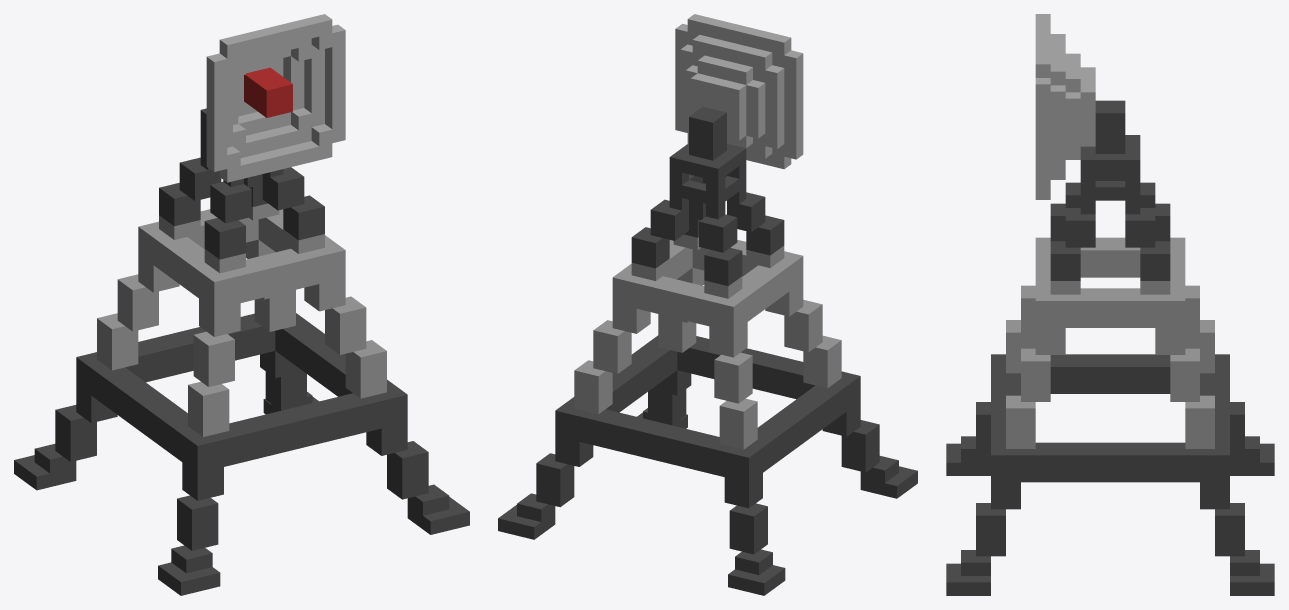
The model's file is torre.obj.
3 views of the same model, side by side, from view 1: azimuth 30°, elevation 25°; view 2: azimuth 150°, elevation 25°; view 3: azimuth 270°, elevation 25° (orthographic). The views are drawn at different scales.
Bounding box in the file's own units: 2.2 × 3.6 × 2.2.
Materials: 1 (1 with a texture image).
